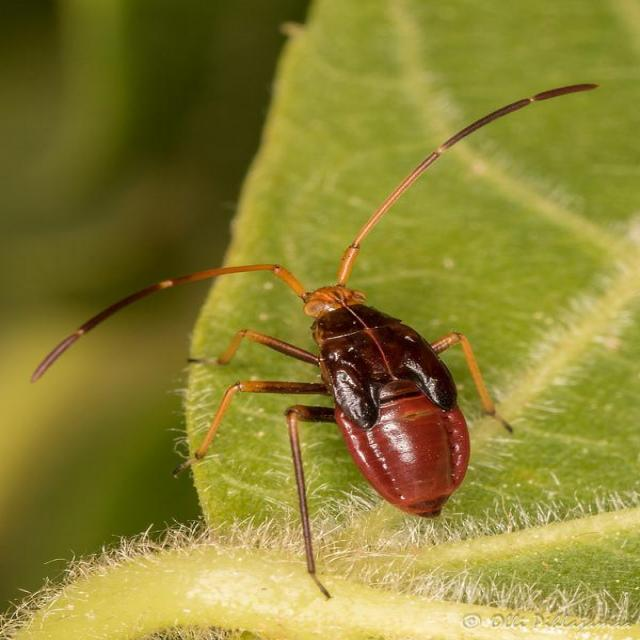Miridae-Adult-: (29, 79, 609, 597)
